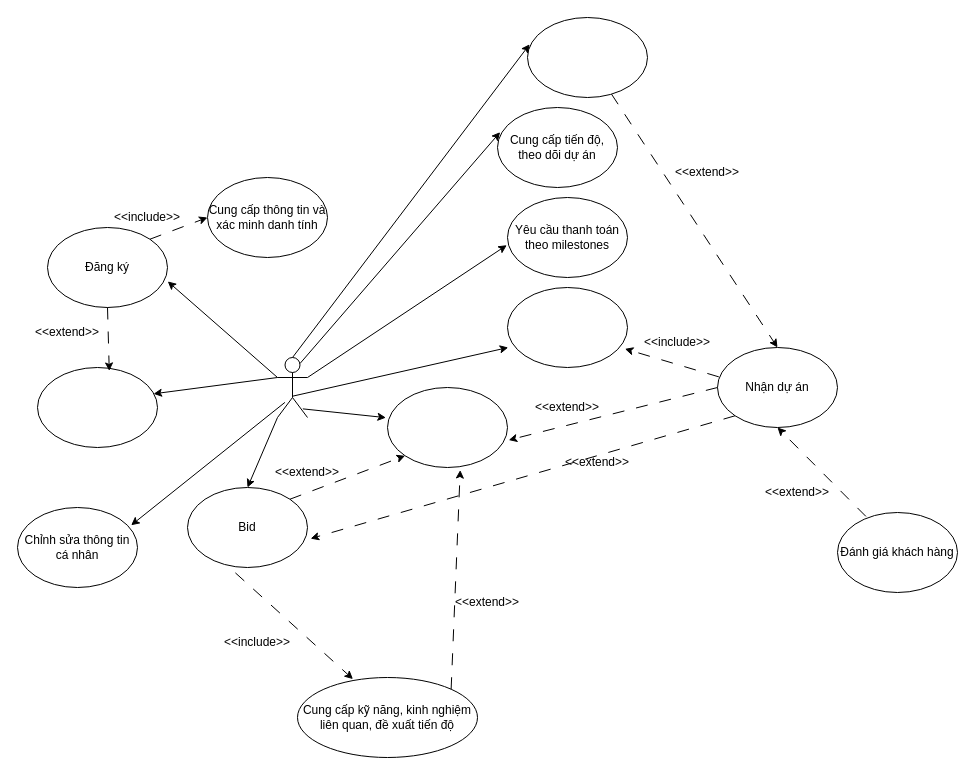
Some shapes in this 975 by 775 pixel diagram are drawn without their labels. Here are the shapes that lost their labels. From the top down, the box of each, then its label:
(526, 16, 648, 98): Chat
(506, 286, 628, 368): Xác nhận kết thúc hợp đồng
(36, 366, 158, 448): Đăng nhập
(276, 356, 308, 418): Freelancer
(386, 386, 508, 468): Xem dự án
